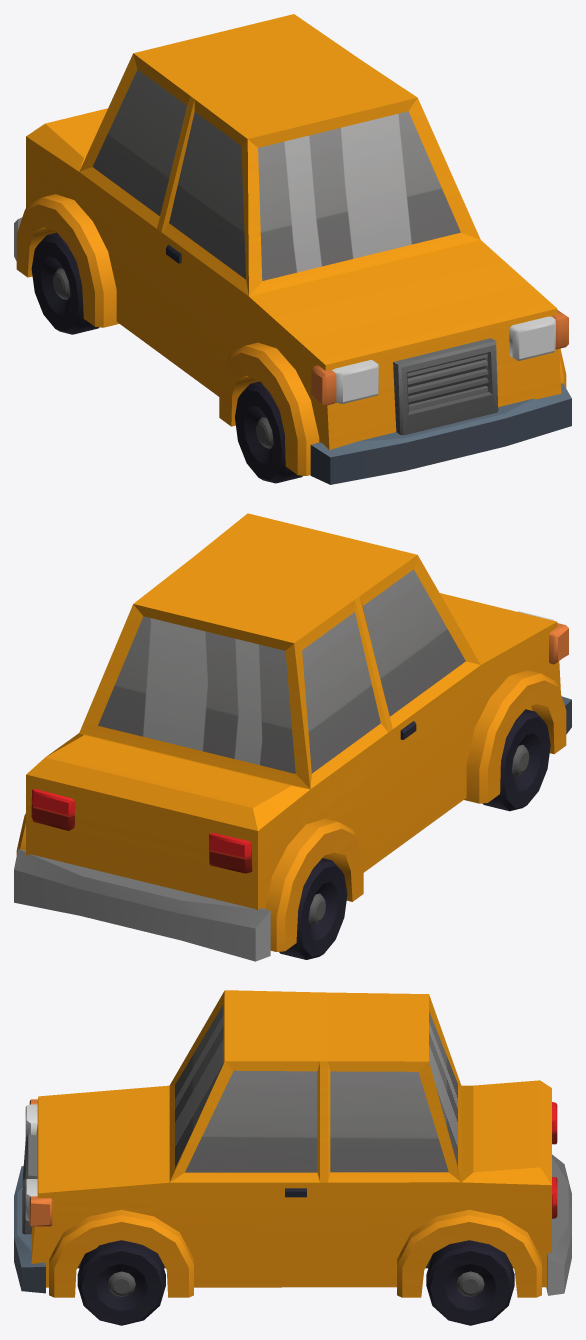
The model's file is Car_2_11.fbx.
3 views of the same model, one above another, from view 1: azimuth 30°, elevation 25°; view 2: azimuth 150°, elevation 25°; view 3: azimuth 270°, elevation 25° (orthographic). The views are drawn at different scales.
Parts seen in each view (by area): view 1: Car_2_11, W_BR, W_FR; view 2: Car_2_11, W_FR, W_BR; view 3: Car_2_11, W_BL, W_FL.
Boxes of the visible parts, x1,y1,x2,y2 form: Car_2_11: [14, 14, 571, 484]; W_BR: [31, 232, 99, 334]; W_FR: [235, 381, 302, 483]; Car_2_11: [14, 513, 571, 961]; W_FR: [482, 709, 550, 811]; W_BR: [279, 858, 347, 959]; Car_2_11: [14, 990, 571, 1297]; W_BL: [426, 1240, 514, 1325]; W_FL: [77, 1240, 165, 1325].
Bounding box in the file's own units: 1.09 × 1.11 × 2.28.
